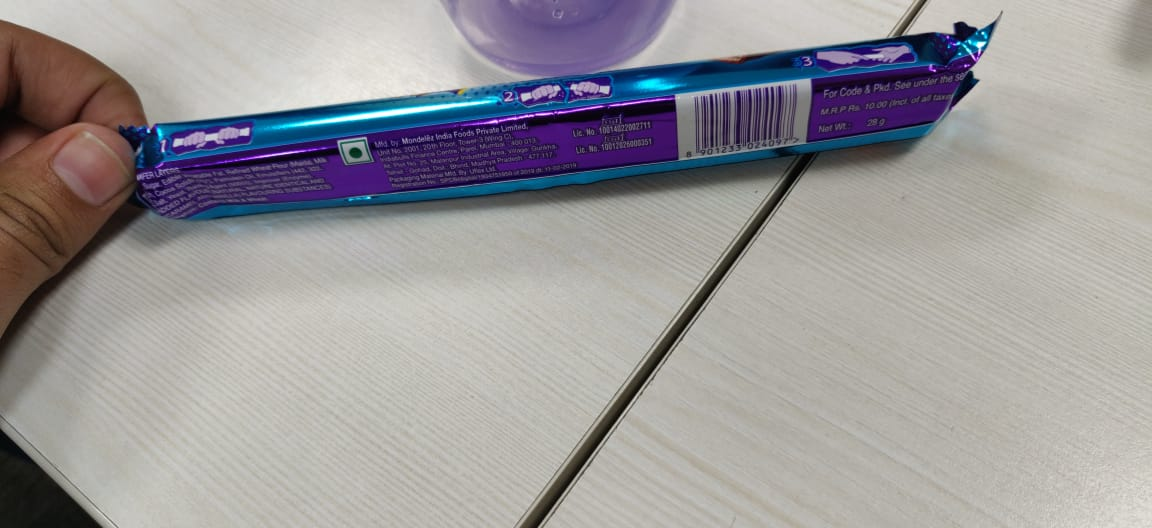perk: (120, 8, 1021, 239)
